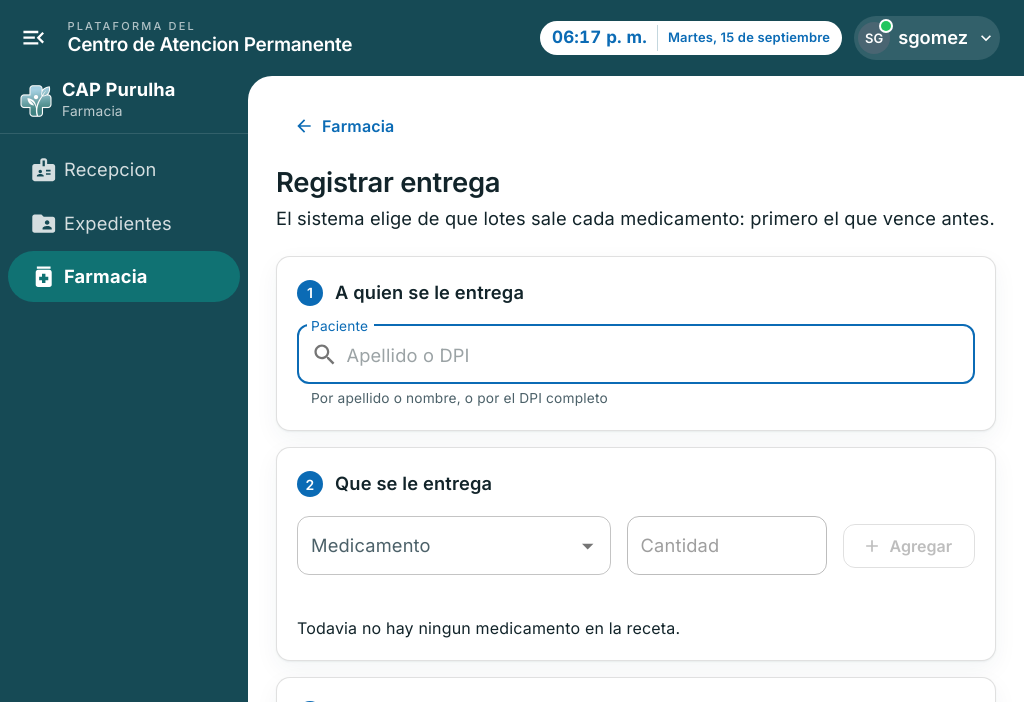
Test: registrar una entrega › avisa cuando toda la existencia esta vencida, aunque el catalogo diga 45
The image size is (1024, 702).
Expected: the heading "Registrar entrega" is shown, [276,165,500,199]
Type "Perez" into the field labelled "Paciente" at x=661, y=355, box [346,325,975,384]
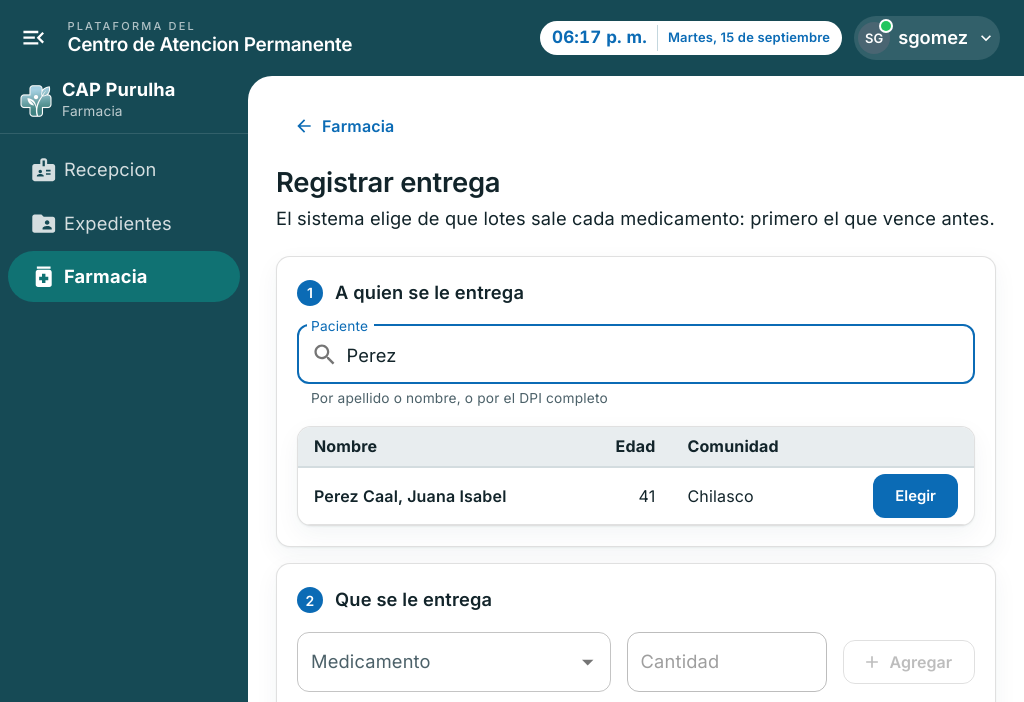
Click the button "Elegir" at x=916, y=496, box [873,474,958,518]
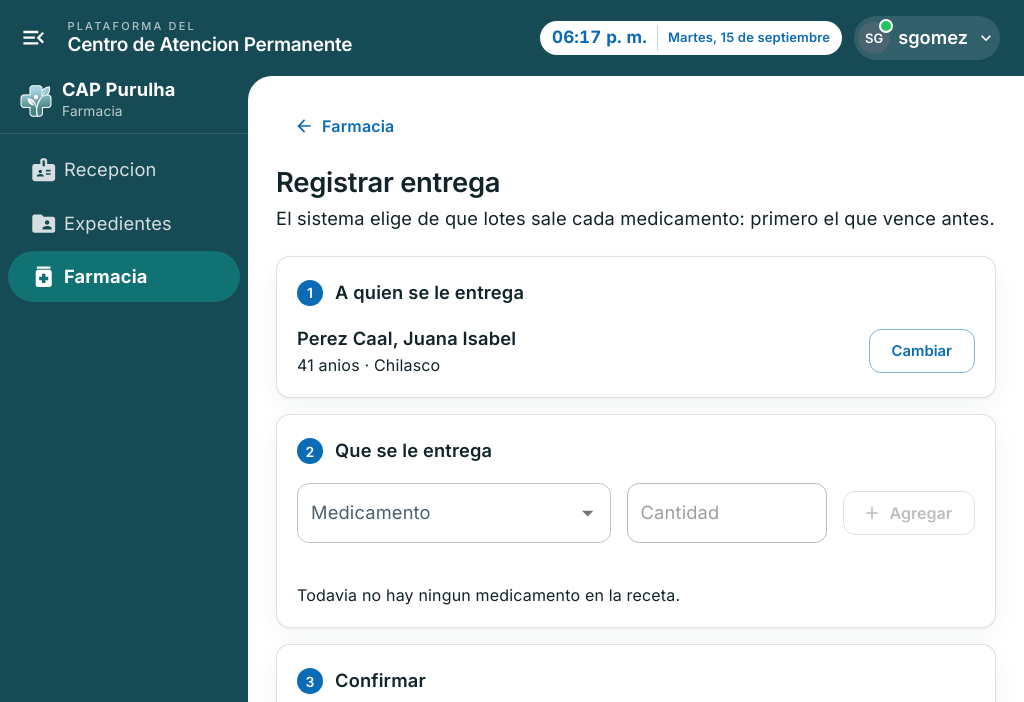
Now the text "Perez Caal, Juana Isabel" is shown, box [297,325,516,352]
Type "Ibuprofeno" into the dropdown labelled "Medicamento" at x=439, y=513, box [306,492,572,534]
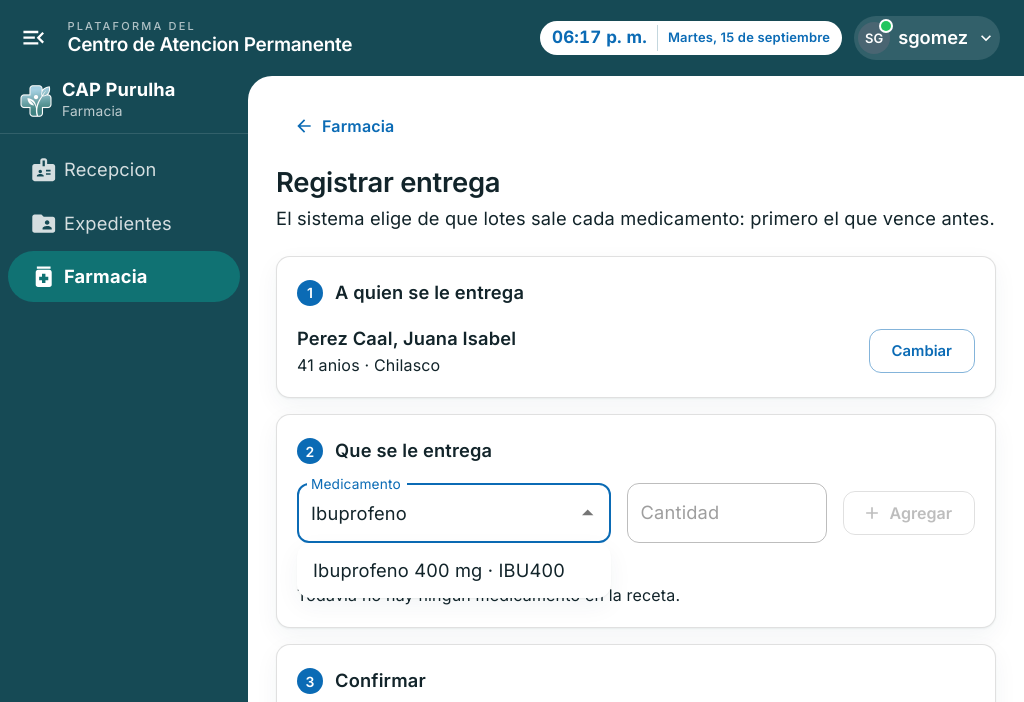
Click the option "Ibuprofeno 400 mg · IBU400" at x=439, y=570, box [313,559,565,581]
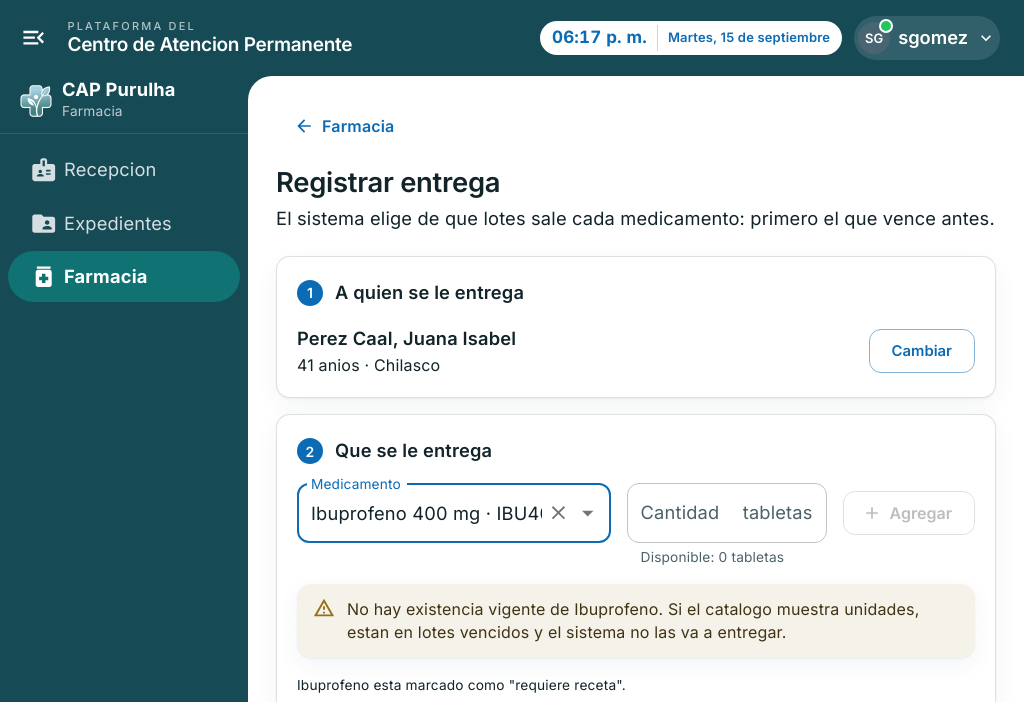
Now the text "No hay existencia vigente de Ibuprofeno" is shown, box [347,590,959,652]
